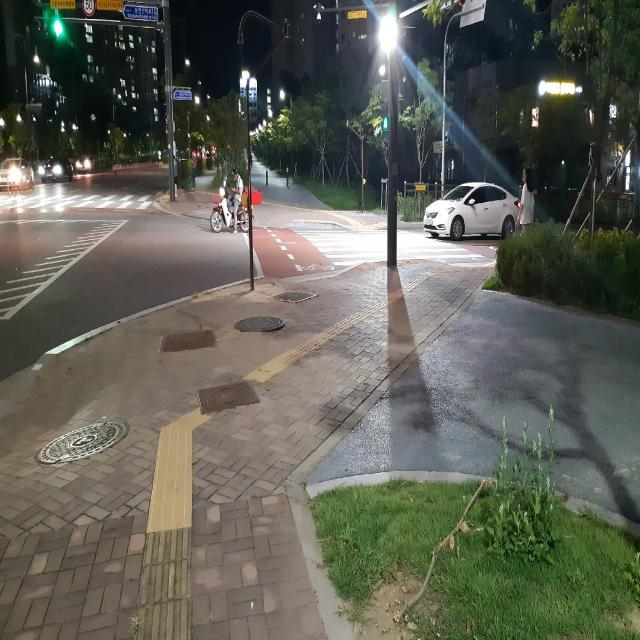횡단보도: (292, 229, 486, 266), (0, 192, 155, 210)
